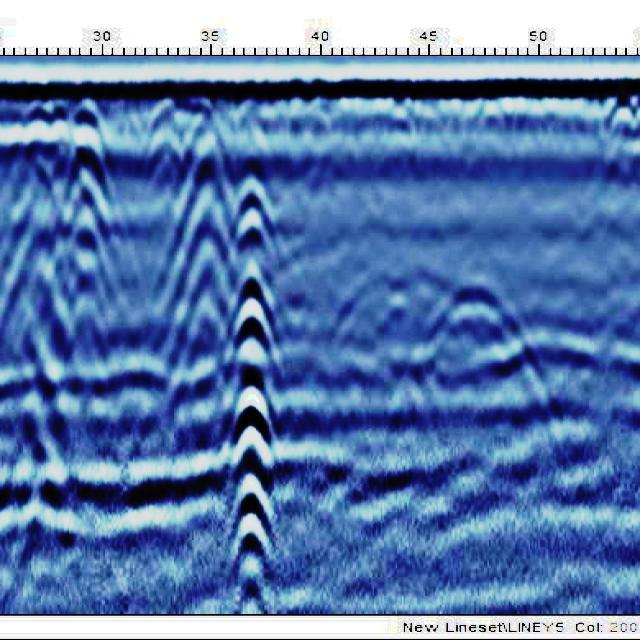hyperbola: (202, 159, 303, 621), (38, 68, 132, 374)
